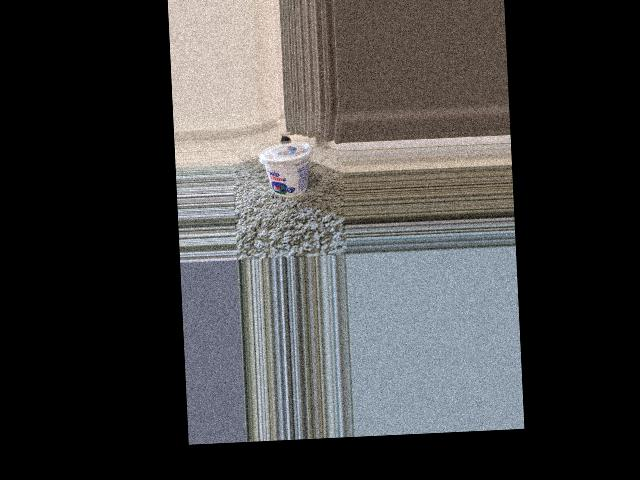cotage: (261, 139, 311, 200)
